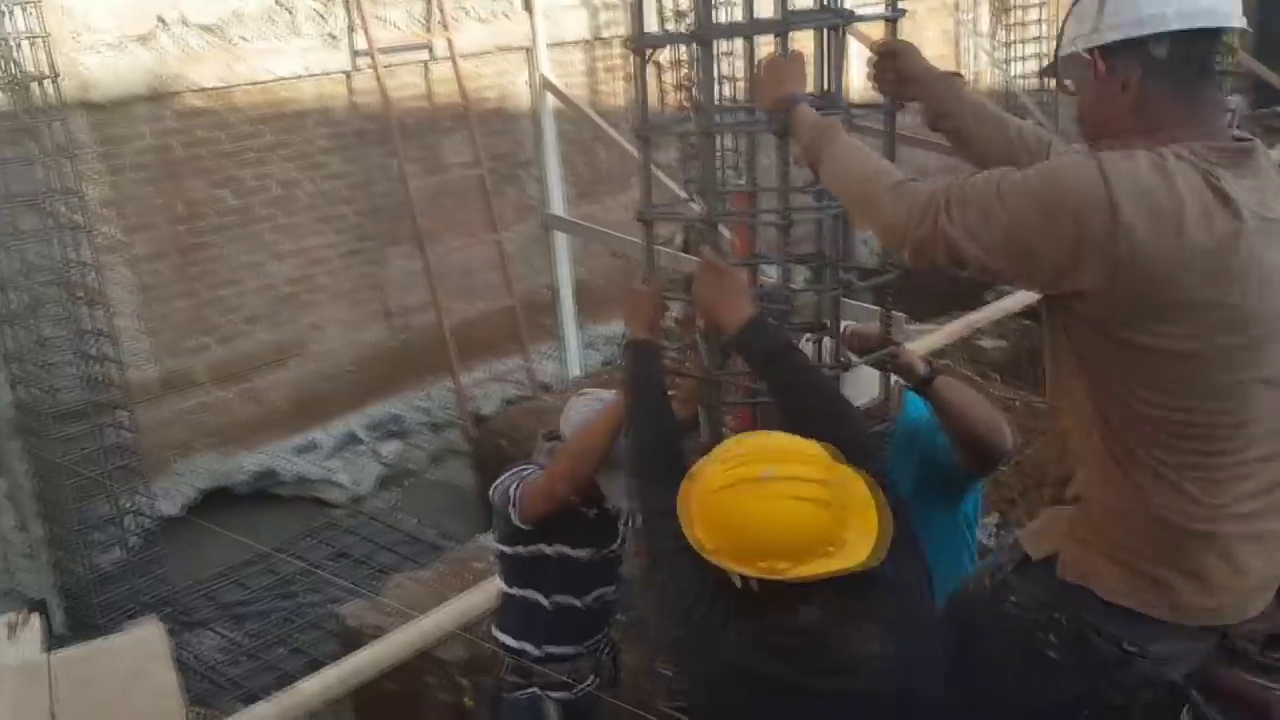helmet: (675, 425, 888, 595)
helmet-off: (537, 382, 625, 498)
helmet-on: (1026, 3, 1255, 145), (1029, 1, 1255, 85)
person: (791, 0, 1263, 661), (625, 316, 1007, 708), (483, 335, 715, 719)
